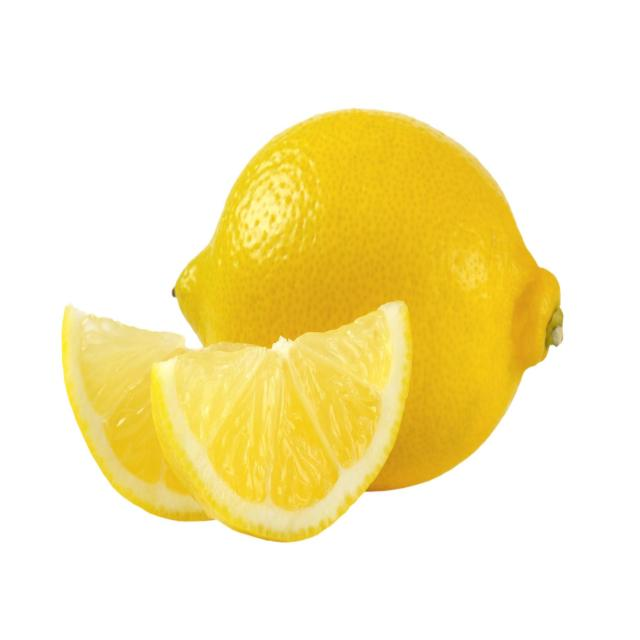lemon: (169, 98, 570, 495), (145, 296, 416, 546)
